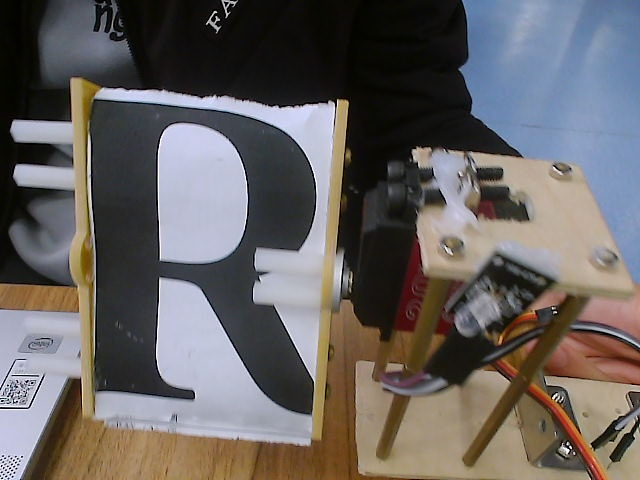R: (20, 68, 380, 461)
